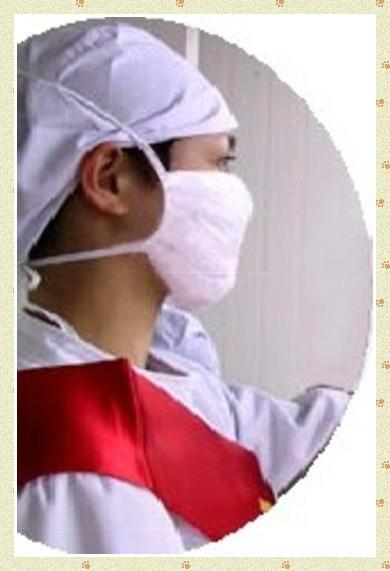OK: (108, 126, 256, 300)
